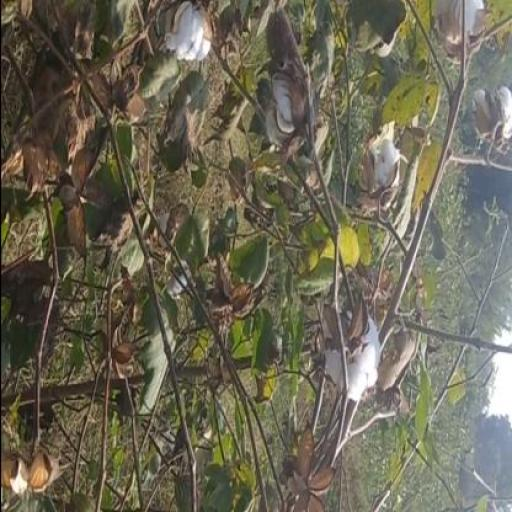cotton_ready: (319, 305, 391, 408), (149, 0, 225, 86), (240, 73, 314, 150), (354, 126, 399, 222)
